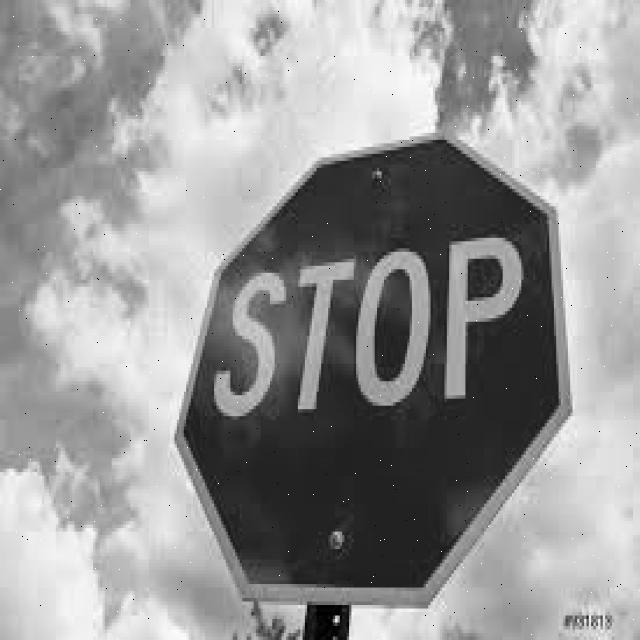stop sign: (171, 134, 575, 604)
